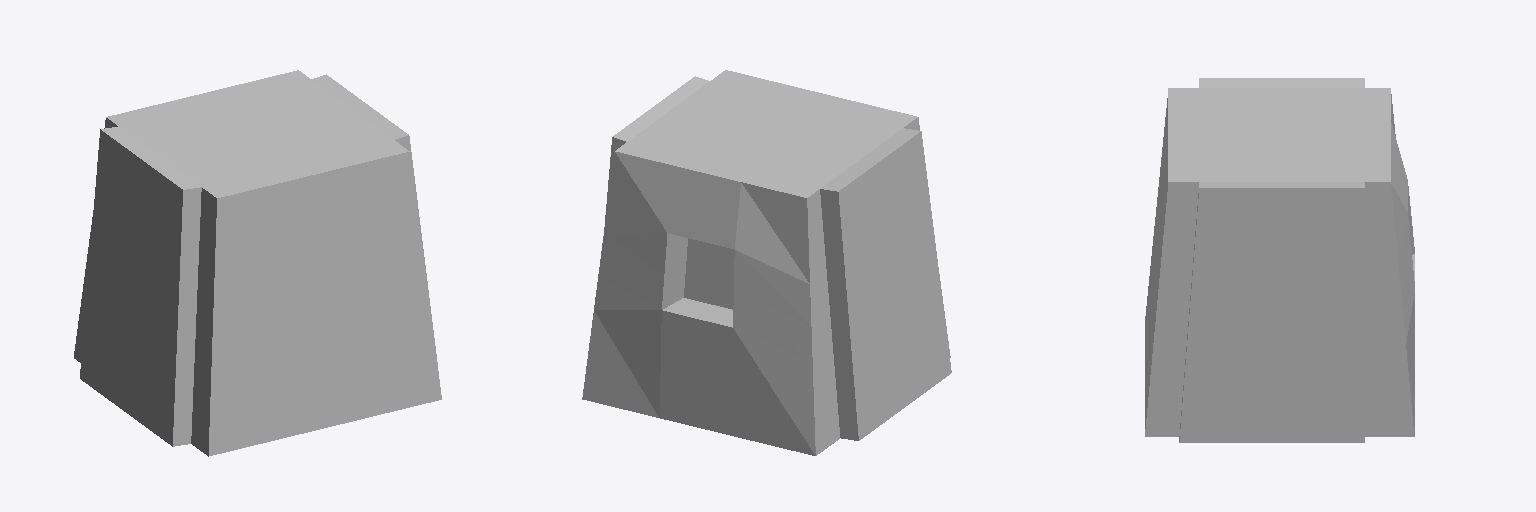
The model's file is ModelScientificGrinder.obj.
The picture shows the model from 3 angles: view 1: azimuth 30°, elevation 25°; view 2: azimuth 150°, elevation 25°; view 3: azimuth 270°, elevation 25°; orthographic projection.
Parts seen in each view (by area): view 1: Cube; view 2: Cube; view 3: Cube.
Part boxes in pixels (x1,y1,x2,y2): Cube: (74, 70, 441, 456); Cube: (582, 70, 951, 455); Cube: (1145, 78, 1414, 442).
Size of the model in its own units: 2.29 by 2.01 by 2.